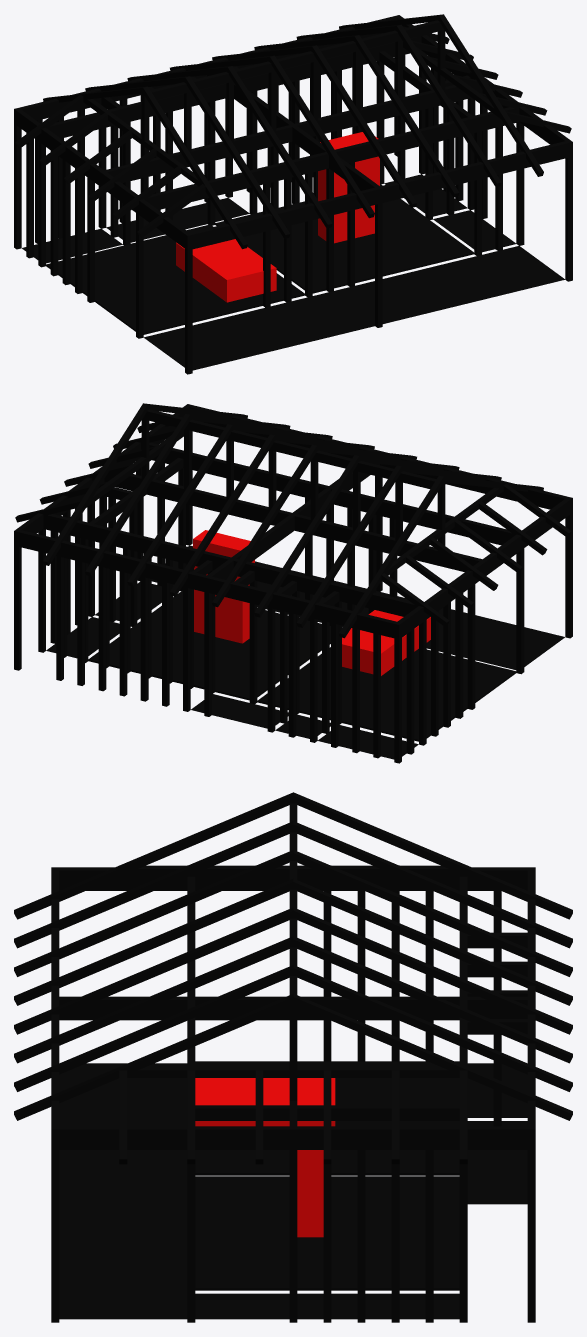
3 views of the same model, one above another, from view 1: azimuth 30°, elevation 25°; view 2: azimuth 150°, elevation 25°; view 3: azimuth 270°, elevation 25° (orthographic). The views are drawn at different scales.
Size of the model in its own units: 37.17 by 17.52 by 29.89.
